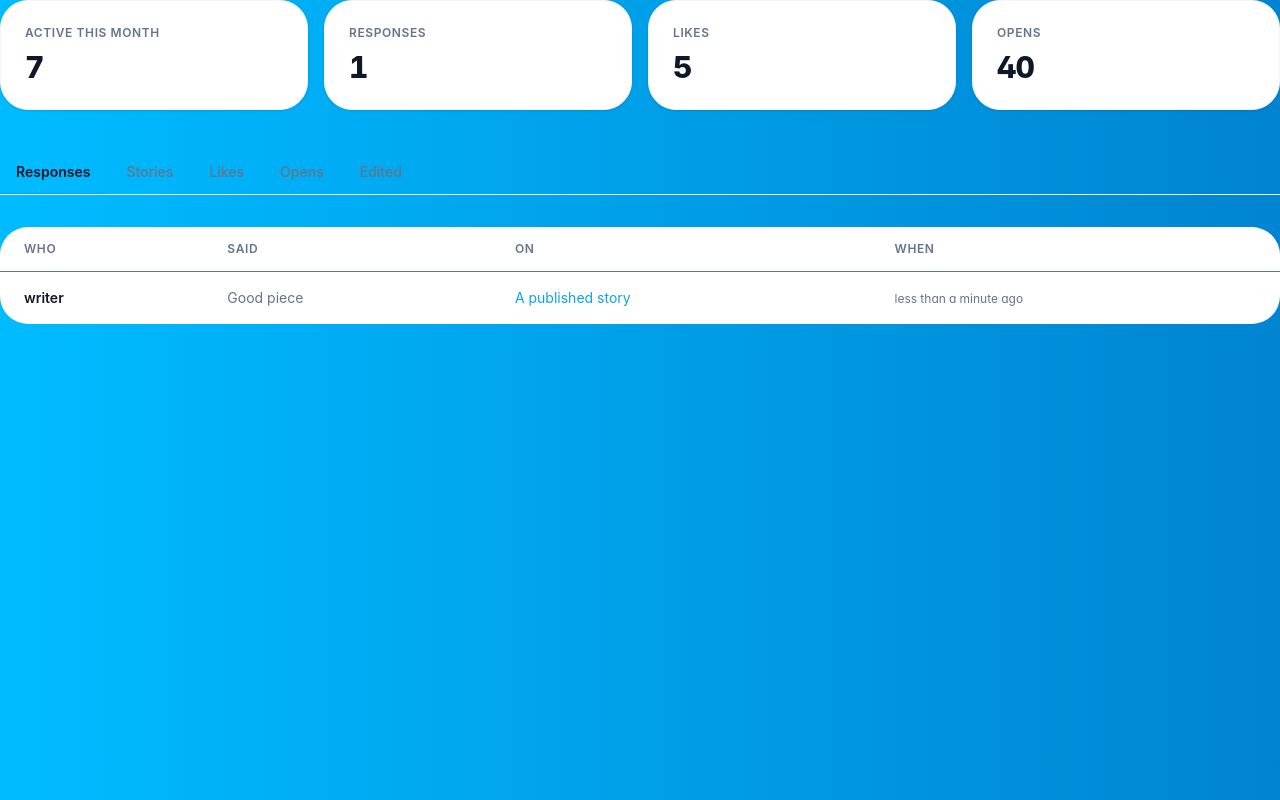
Scenario: Admin activity › switches to the moderation log, which is a different endpoint
Expected: the text "Good piece" is shown, left=227, top=289, right=303, bottom=306
Click the tab "Edited": [381, 172] box left=344, top=150, right=418, bottom=194
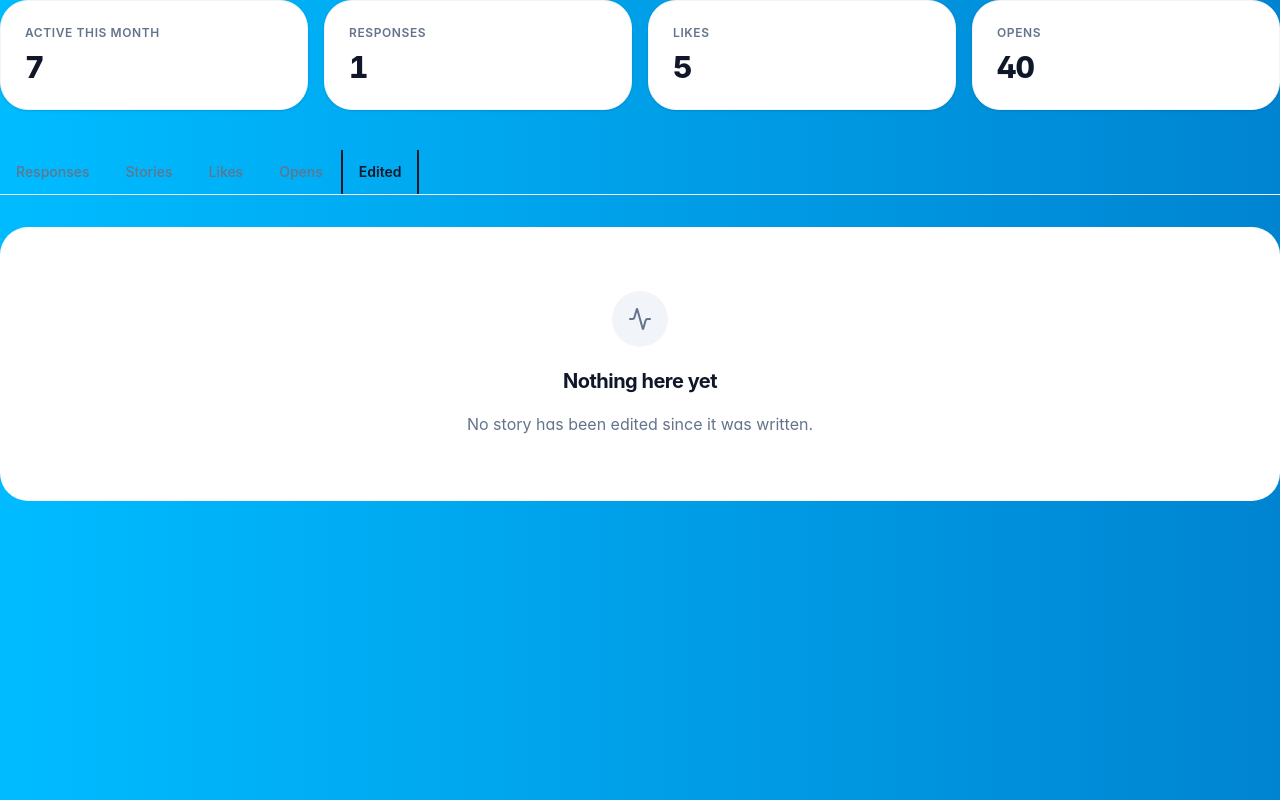
Expected: the text "No story has been edited since it was written." is shown, left=467, top=411, right=813, bottom=437
